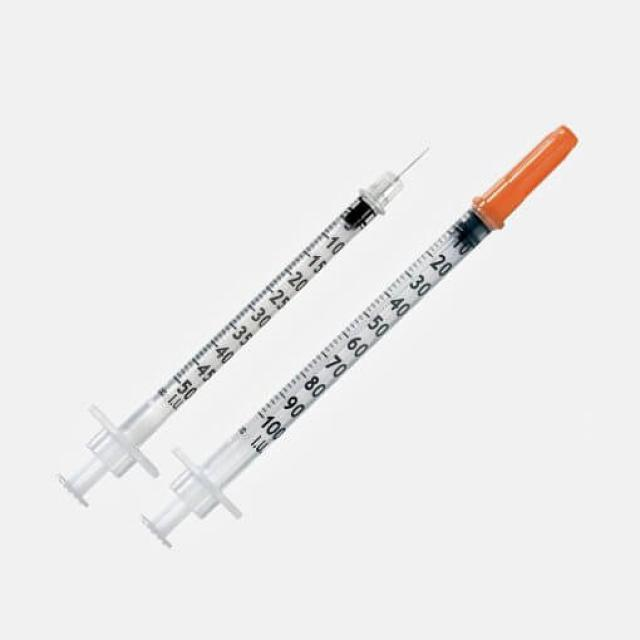syringe: (137, 120, 578, 550), (56, 141, 430, 508)
